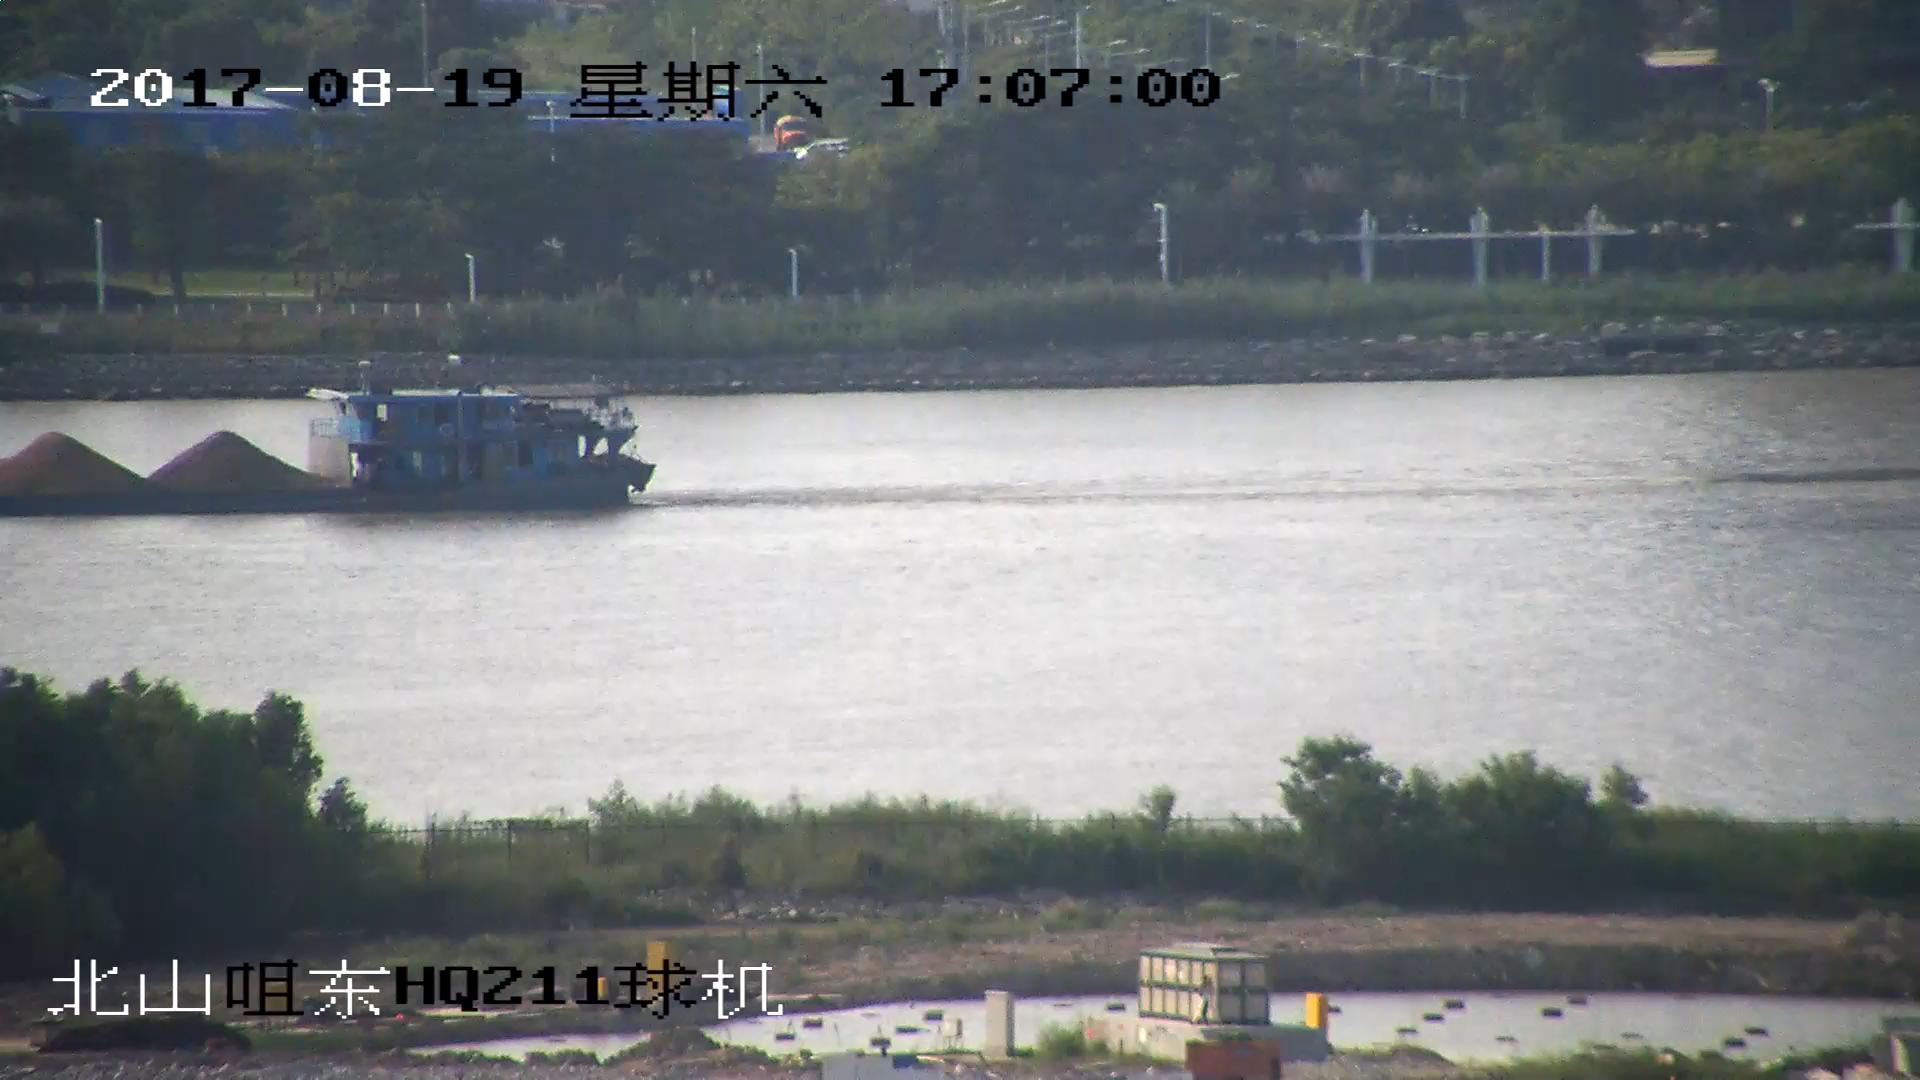ore carrier: (1, 346, 654, 514)
